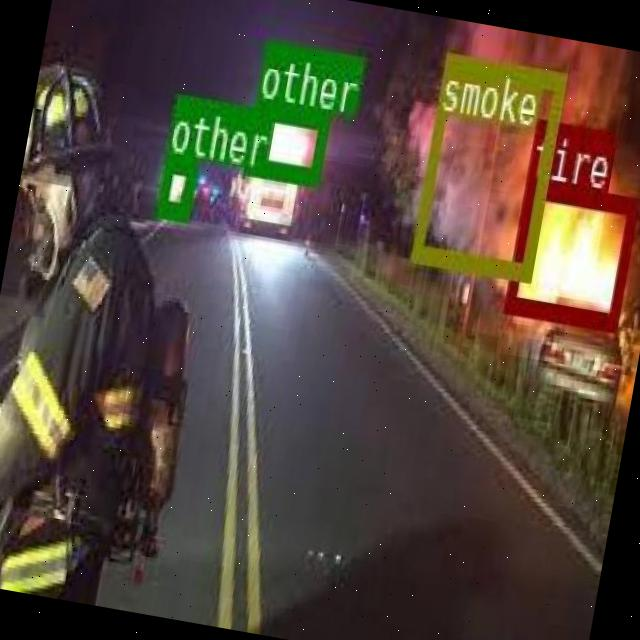fire: (502, 176, 638, 328)
smoke: (408, 49, 564, 278)
